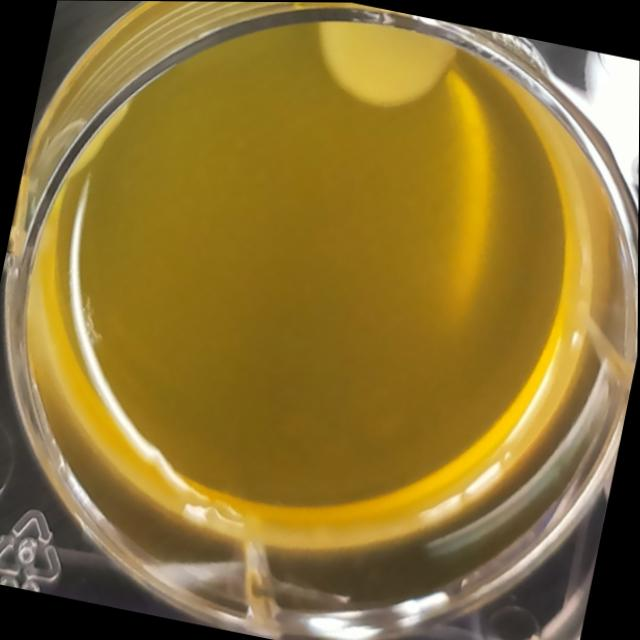vibrio: (277, 2, 488, 136)
